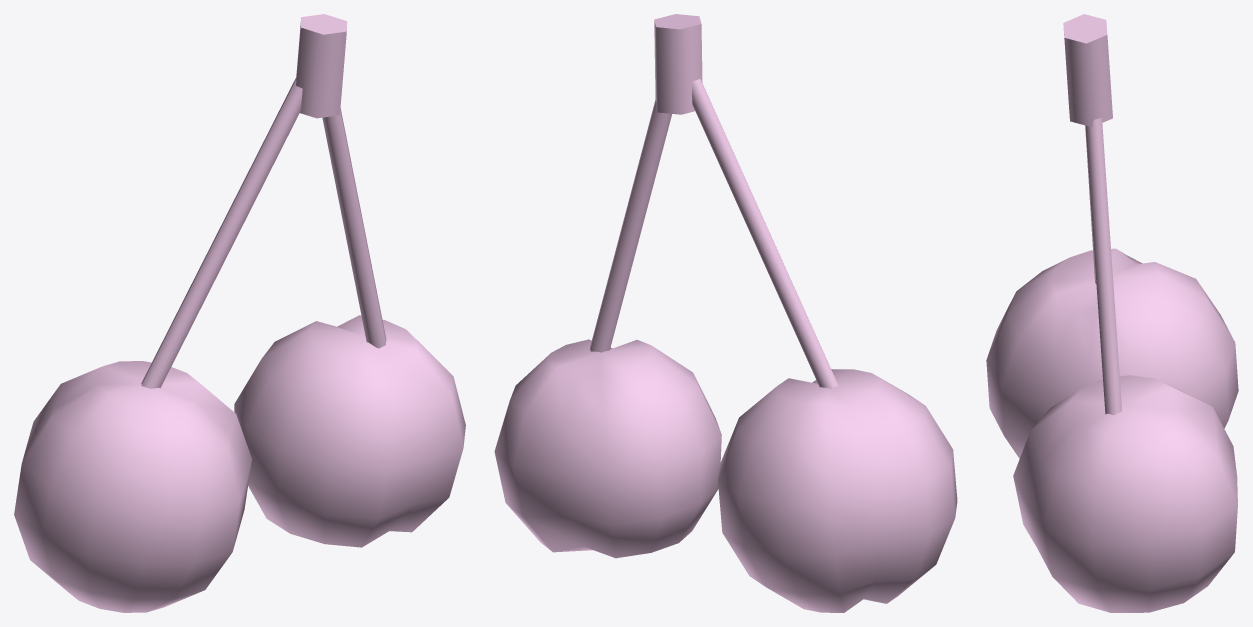
File: cereza.glb
The picture shows the model from 3 angles, left to right: view 1: azimuth 30°, elevation 25°; view 2: azimuth 150°, elevation 25°; view 3: azimuth 270°, elevation 25°; orthographic projection. The views are drawn at different scales.
Visible parts, largest first — view 1: Sphere003; view 2: Sphere003; view 3: Sphere003.
Part boxes in pixels (x1=…): Sphere003: x1=14, y1=14, x2=465, y2=612; Sphere003: x1=494, y1=14, x2=957, y2=612; Sphere003: x1=986, y1=14, x2=1238, y2=612.
Bounding box in the file's own units: 18.47 × 21.98 × 9.17.
